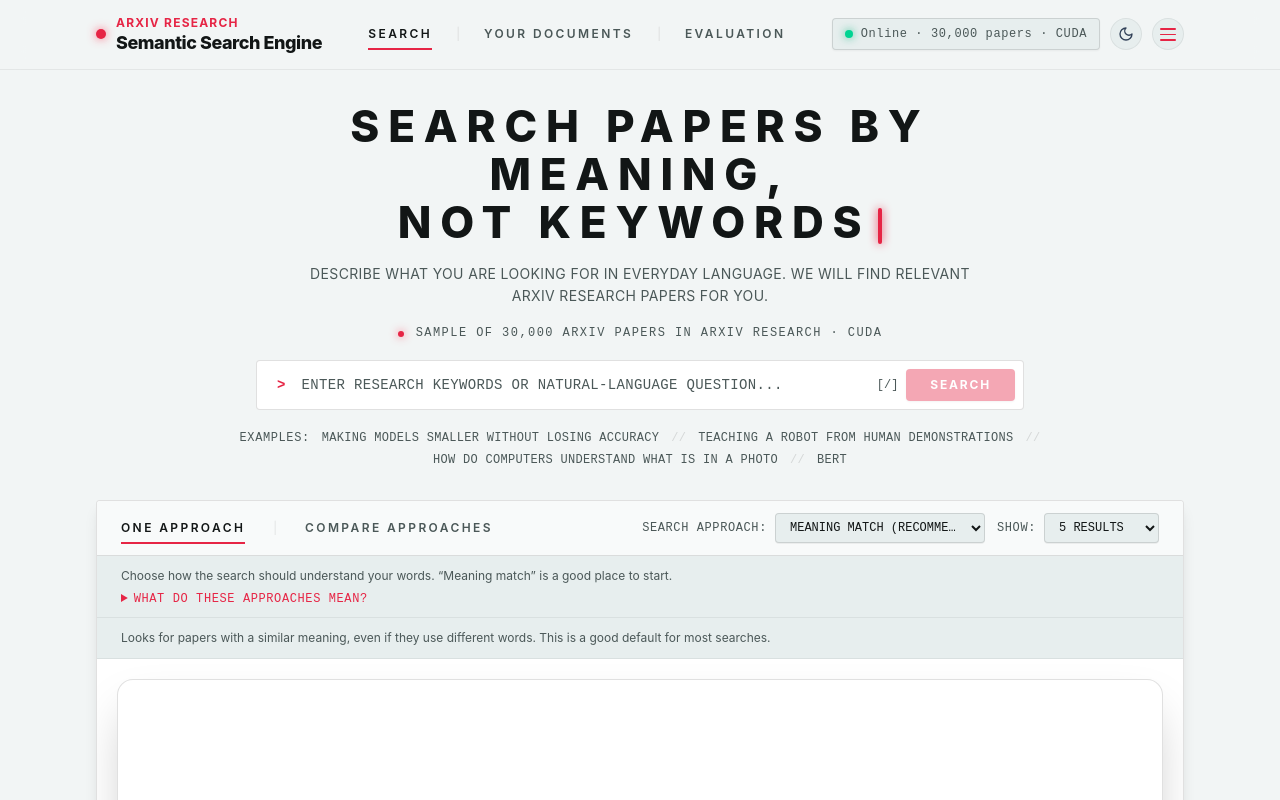
Your documents workspace view › navigates to Your documents and keeps the address bar clean
Expected: the text "Online · 30,000 papers · CUDA" is shown, [861,25,1087,43]
Click the button "Your documents" at (559, 34), box [484,22,633,46]
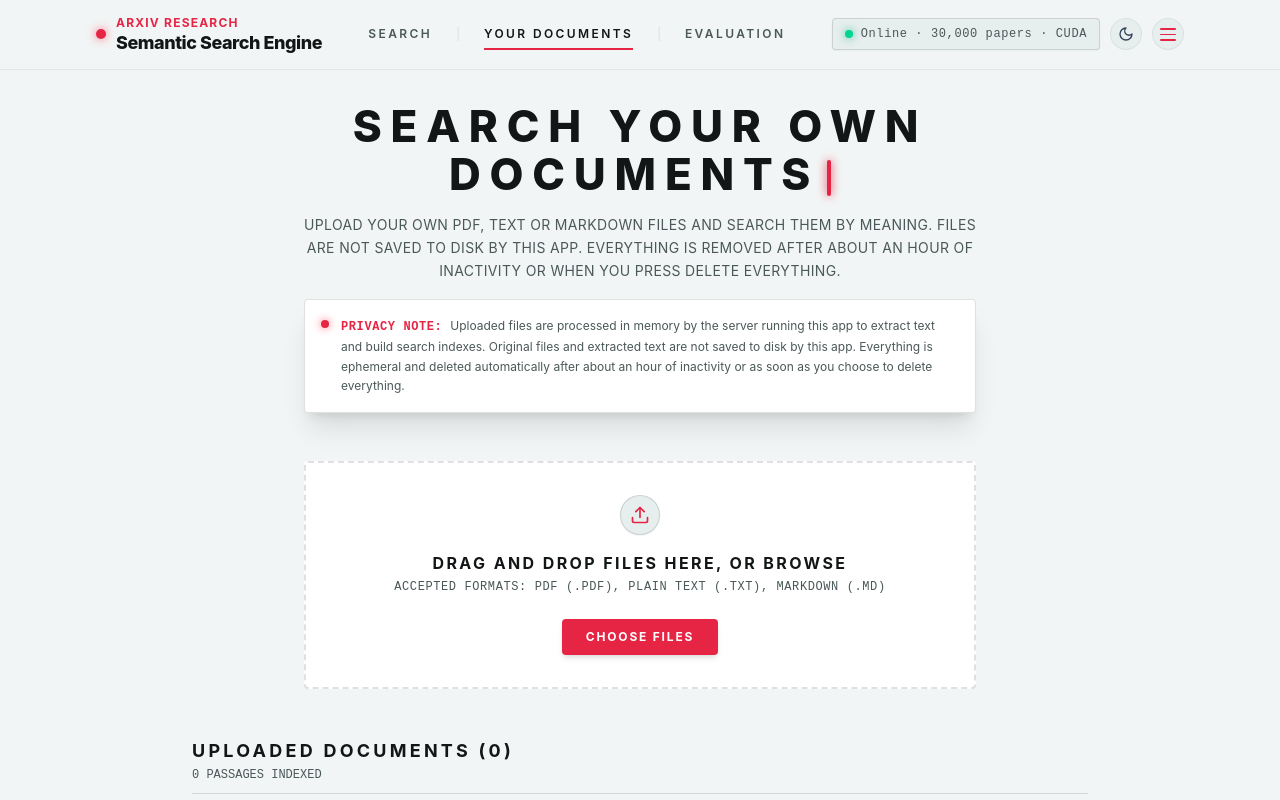
Now the heading "Search your own documents" is shown, box [192,102,1088,198]
